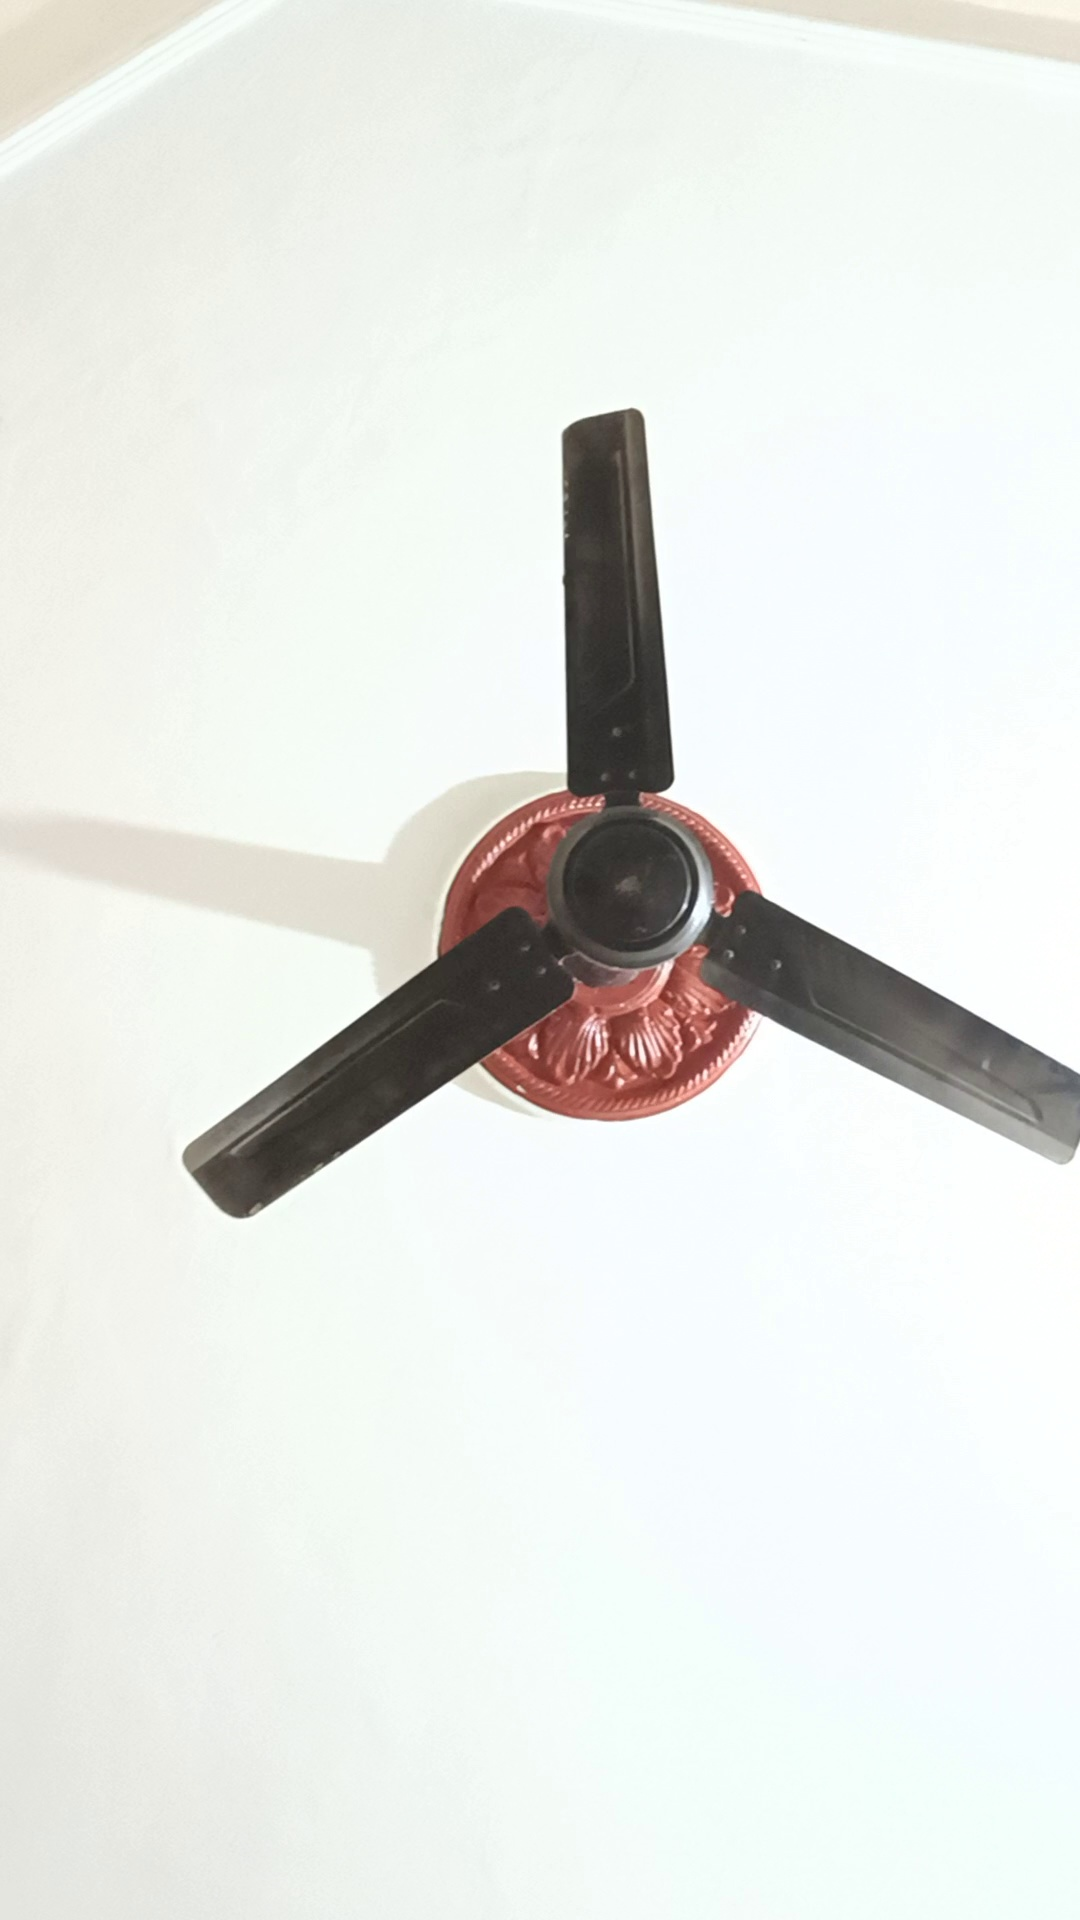fan: (175, 411, 1080, 1244)
